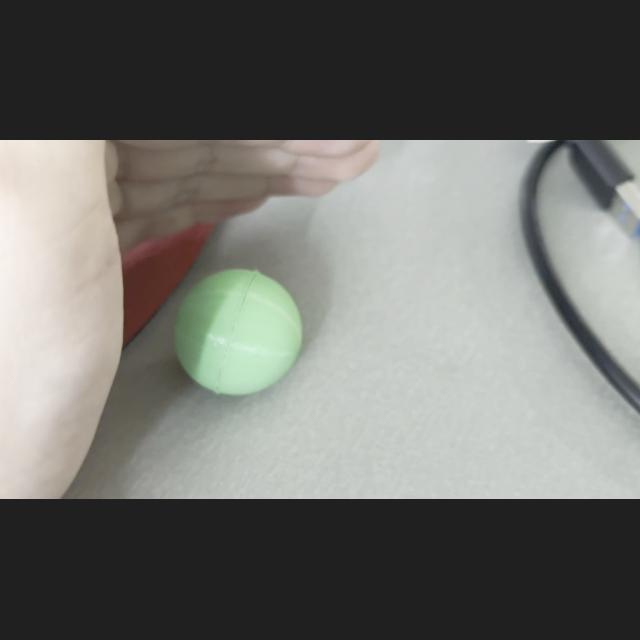objects: (170, 264, 308, 400)
